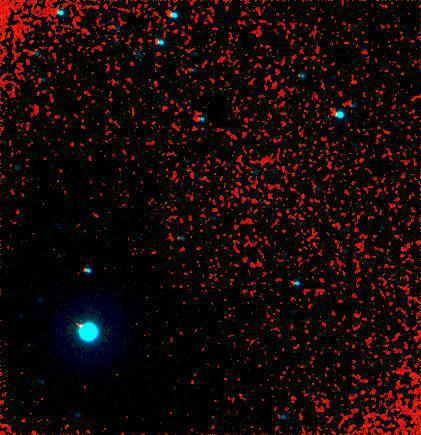star: (75, 312, 105, 342)
